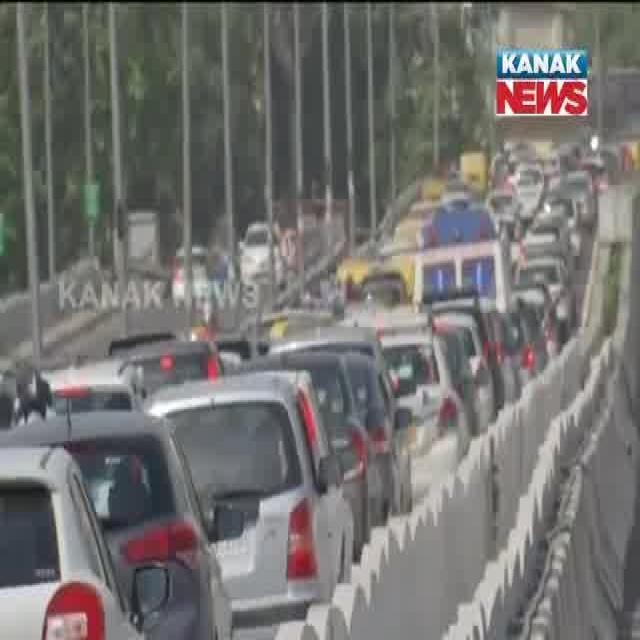ambulance: (415, 209, 502, 295)
